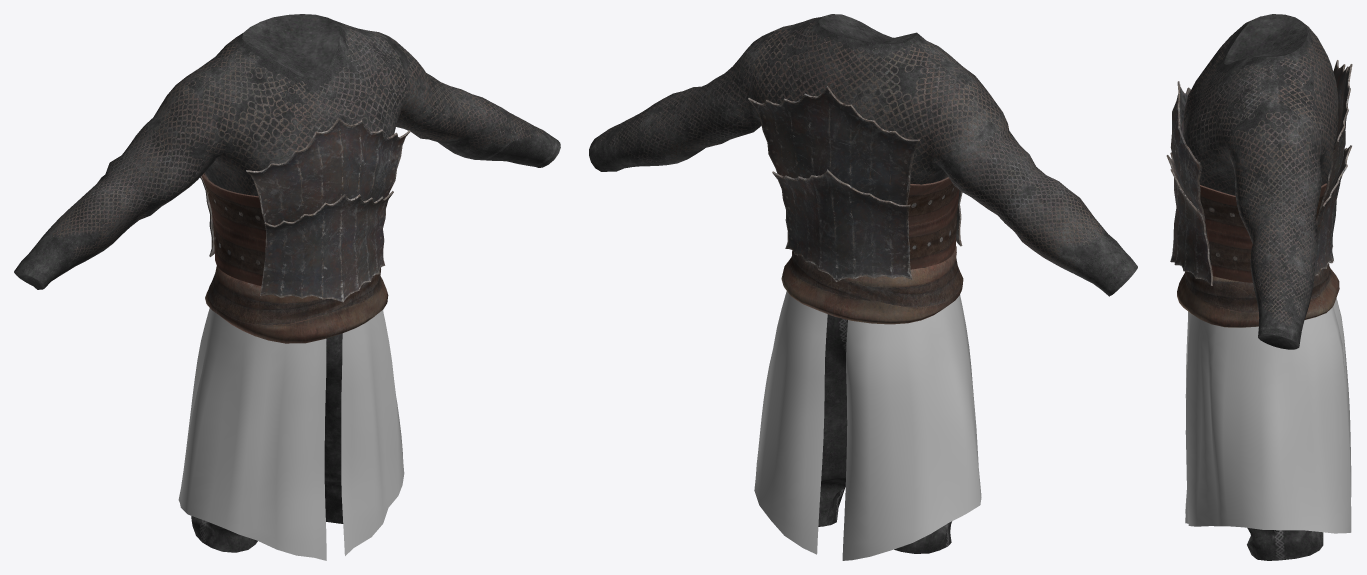
The model's file is sk_dg_uruk_chest_med_e.fbx.
The picture shows the model from 3 angles, left to right: view 1: azimuth 30°, elevation 25°; view 2: azimuth 150°, elevation 25°; view 3: azimuth 270°, elevation 25°; orthographic projection. The views are drawn at different scales.
Visible parts, largest first — view 1: sk_dg_uruk_chest_med_e.0, sk_dg_uruk_chest_med_e.skirt, sk_dg_uruk_chest_med_e.2, sk_dg_uruk_chest_med_e.1; view 2: sk_dg_uruk_chest_med_e.0, sk_dg_uruk_chest_med_e.skirt, sk_dg_uruk_chest_med_e.2, sk_dg_uruk_chest_med_e.1; view 3: sk_dg_uruk_chest_med_e.0, sk_dg_uruk_chest_med_e.skirt, sk_dg_uruk_chest_med_e.2, sk_dg_uruk_chest_med_e.1.
Part boxes in pixels (x1,y1,x2,y2): sk_dg_uruk_chest_med_e.0: [14, 14, 560, 552]; sk_dg_uruk_chest_med_e.skirt: [178, 308, 404, 560]; sk_dg_uruk_chest_med_e.2: [200, 117, 410, 302]; sk_dg_uruk_chest_med_e.1: [205, 265, 388, 343]; sk_dg_uruk_chest_med_e.0: [589, 14, 1137, 553]; sk_dg_uruk_chest_med_e.skirt: [754, 291, 981, 560]; sk_dg_uruk_chest_med_e.2: [748, 86, 962, 281]; sk_dg_uruk_chest_med_e.1: [781, 246, 963, 324]; sk_dg_uruk_chest_med_e.0: [1183, 14, 1338, 560]; sk_dg_uruk_chest_med_e.skirt: [1185, 298, 1351, 533]; sk_dg_uruk_chest_med_e.2: [1166, 60, 1352, 285]; sk_dg_uruk_chest_med_e.1: [1177, 263, 1339, 327].
Bounding box in the file's own units: 1.35 × 0.4119 × 1.2.
